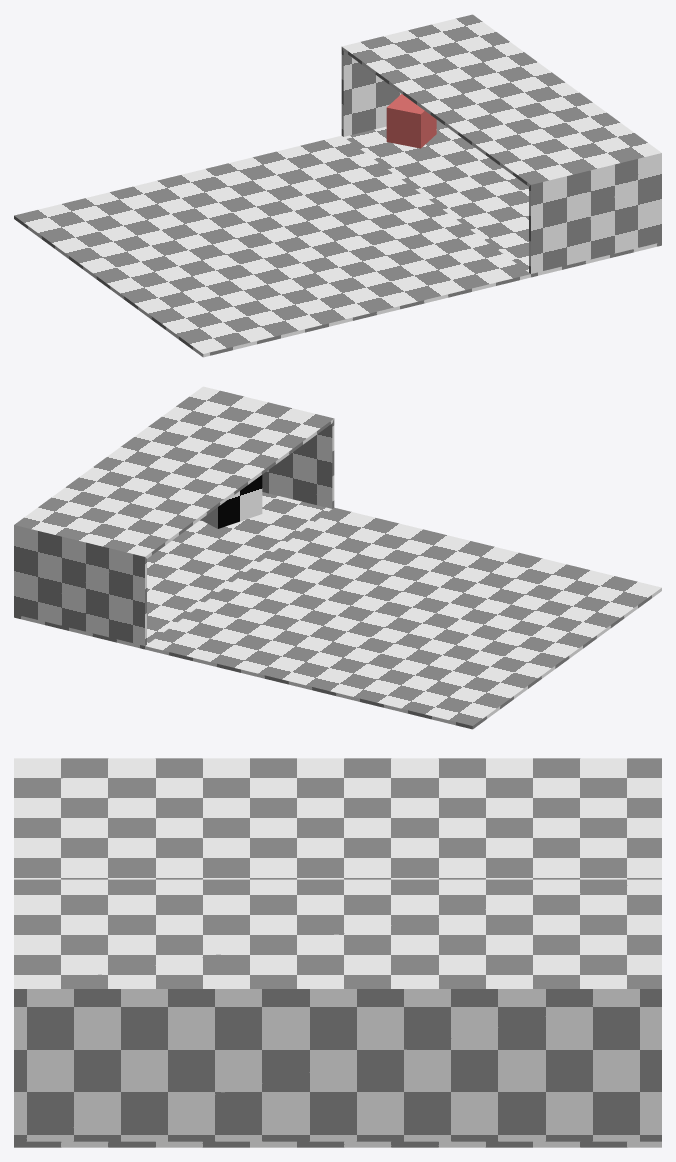
Rendered from testbox.gltf.
3 renders of one model, top to bottom at view 1: azimuth 30°, elevation 25°; view 2: azimuth 150°, elevation 25°; view 3: azimuth 270°, elevation 25°, orthographic. The views are drawn at different scales.
Parts seen in each view (by area): view 1: Room, Cube.0; view 2: Room, Cube.1; view 3: Room.
Part boxes in pixels (x1,y1,x2,y2): Room: [14, 14, 661, 357]; Cube.0: [386, 94, 436, 148]; Room: [14, 386, 661, 729]; Cube.1: [200, 475, 262, 528]; Room: [14, 758, 661, 1147].
Size of the model in its own units: 14 by 2.7 by 10.
4 materials, 2 textured.
